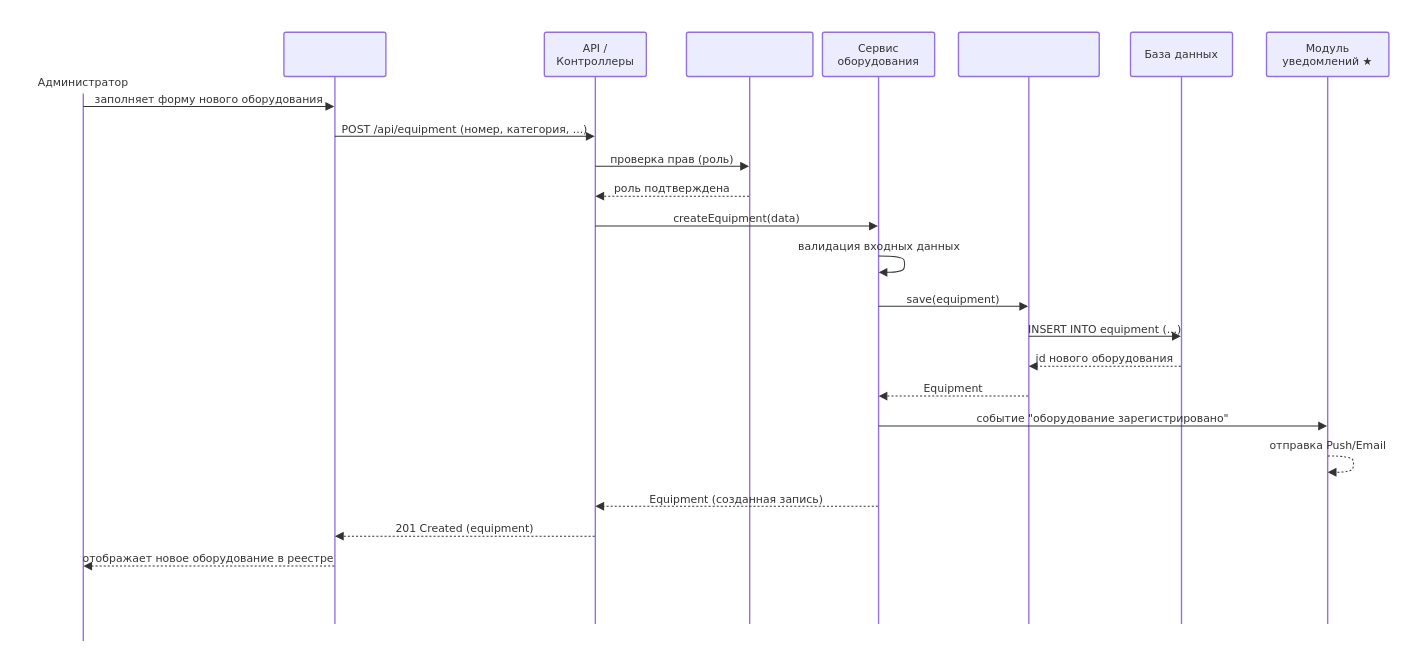
Some shapes in this 1407 by 653 pixel diagram are drawn without their labels. The box of each missing label's shape, as (x1, y1, x2, y2) in pixels:
Frontend (SPA): (283, 31, 386, 624)
Модуль аутентификации: (685, 31, 813, 624)
Репозиторий оборудования: (957, 31, 1100, 624)
